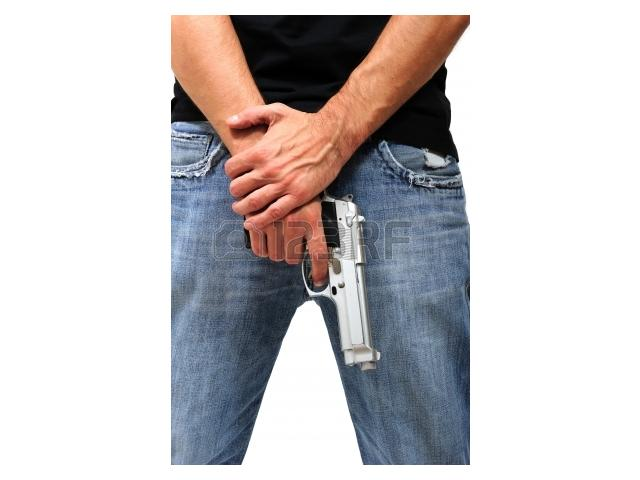pistol: (246, 191, 378, 370)
